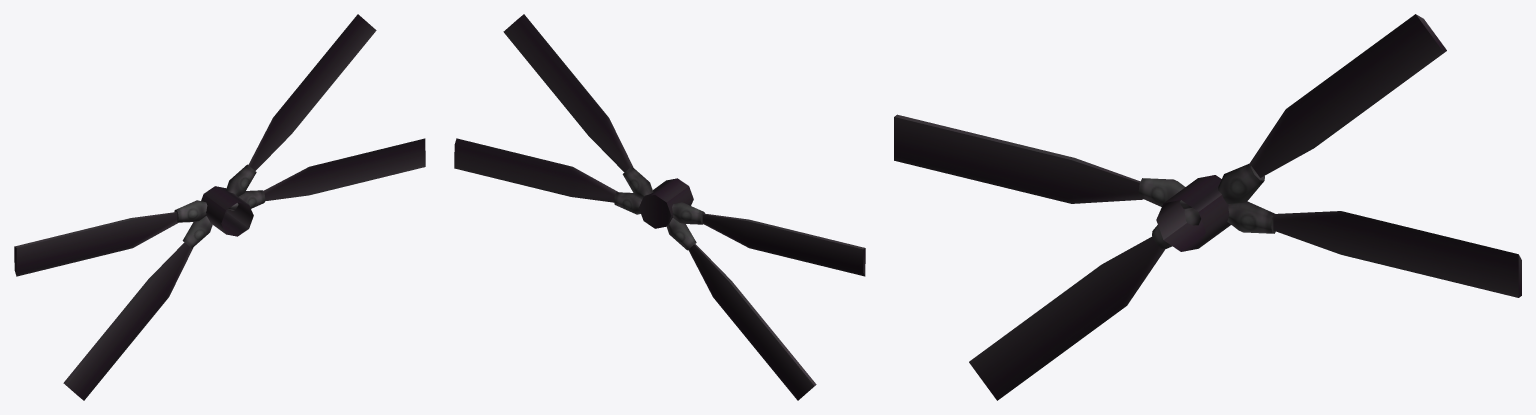
Rendered from Apache_SecRotor.obj.
3 views of the same model, side by side, from view 1: azimuth 30°, elevation 25°; view 2: azimuth 150°, elevation 25°; view 3: azimuth 330°, elevation 25° (orthographic). The views are drawn at different scales.
Visible parts, largest first — view 1: Apache_SecRotor:Mesh; view 2: Apache_SecRotor:Mesh; view 3: Apache_SecRotor:Mesh.
Part boxes in pixels (x1,y1,x2,y2): Apache_SecRotor:Mesh: (14, 14, 425, 400); Apache_SecRotor:Mesh: (454, 14, 865, 400); Apache_SecRotor:Mesh: (894, 14, 1521, 400).
Bounding box in the file's own units: 2.51 × 1.88 × 0.2388.
2 materials, 2 textured.
